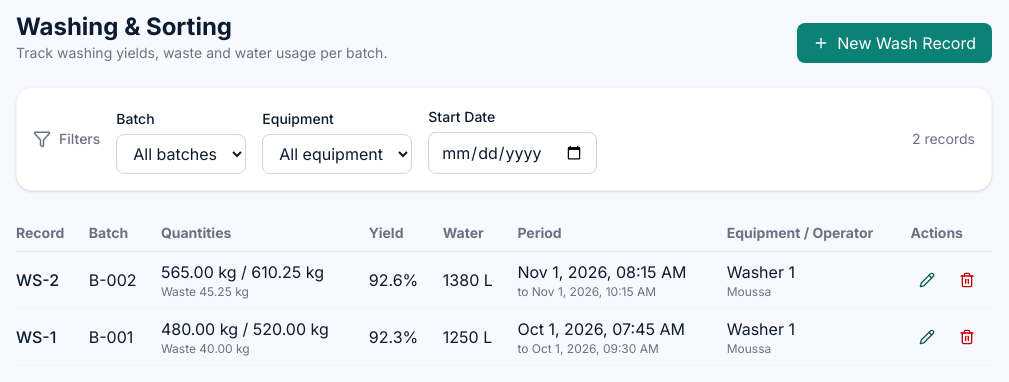
WashSortRecordList › filters by batch and start date
Expected: the text "WS-1" is shown, [16,308,89,366]
Select "B-002" in the dropdown named "Filter by batch" at (181, 154), box [116,134,246,174]
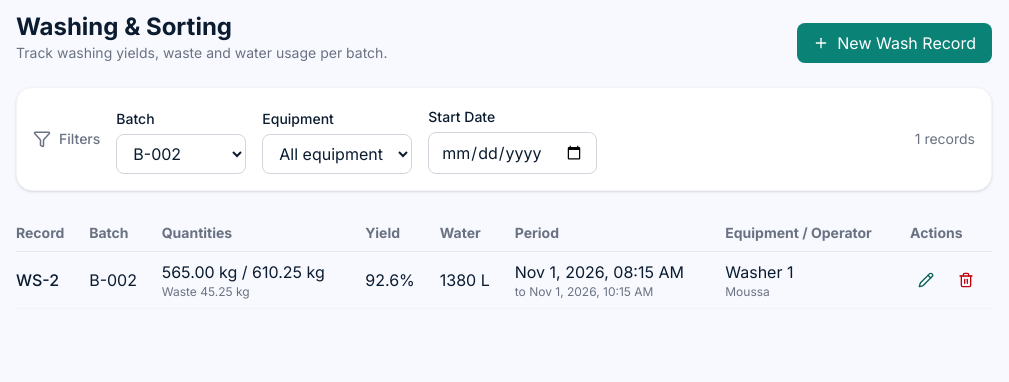
Expected: the text "WS-2" is shown, [16,252,89,308]
Expected: the text "WS-1" is gone
Select "All batches" in the dropdown named "Filter by batch" at (181, 154), box [116,134,246,174]
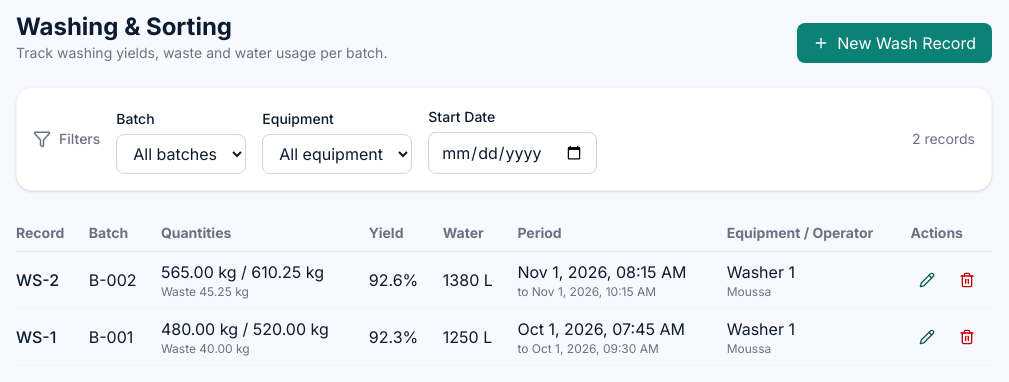
Type "2026-10-01" into the date field named "Filter by start date" at (513, 153), box [428,132,597,174]
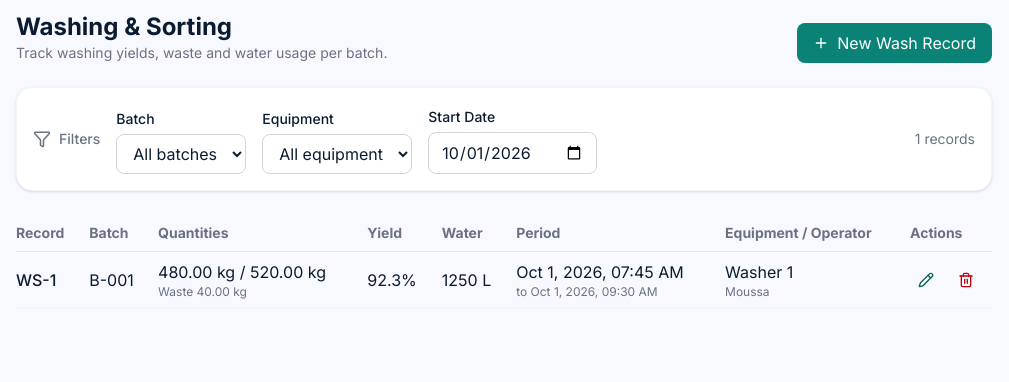
Expected: the text "WS-1" is shown, [16,252,89,308]
Expected: the text "WS-2" is gone
